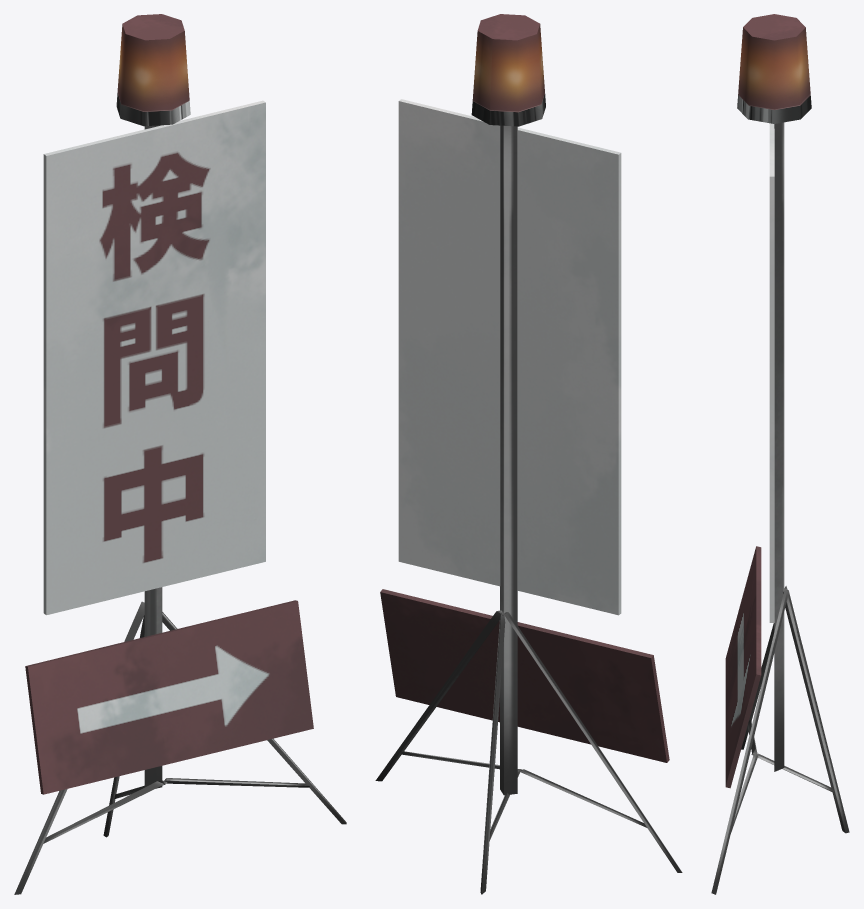
The model's file is BgMD_BoardKENMON_0101.fbx.
The picture shows the model from 3 angles, left to right: view 1: azimuth 30°, elevation 25°; view 2: azimuth 150°, elevation 25°; view 3: azimuth 270°, elevation 25°; orthographic projection. The views are drawn at different scales.
Visible parts, largest first — view 1: pCylinder3; view 2: pCylinder3; view 3: pCylinder3.
Part boxes in pixels (box(x1,y1,x2,y2)): pCylinder3: box(14, 14, 346, 894); pCylinder3: box(375, 14, 682, 894); pCylinder3: box(711, 14, 849, 894).
Size of the model in its own units: 68.95 by 172 by 26.57.
1 material, 1 textured.
